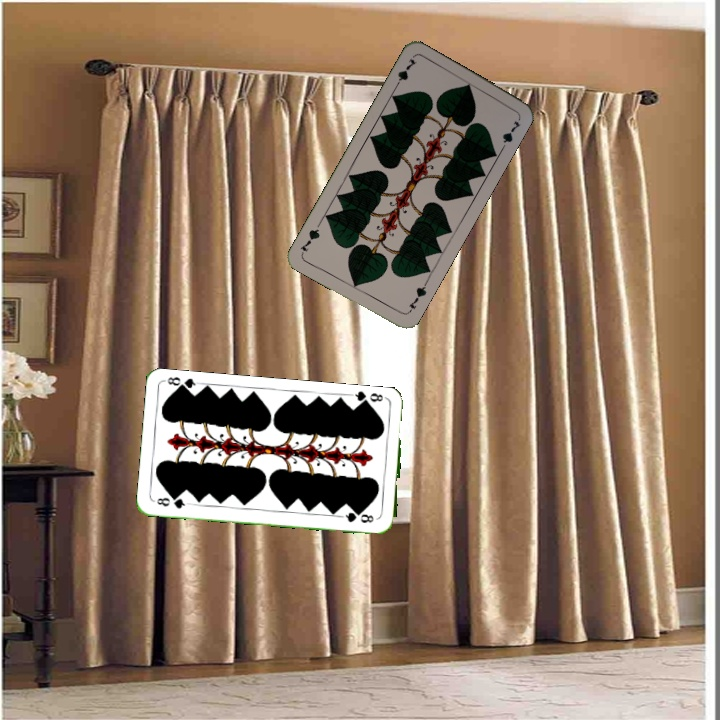G7: (390, 54, 419, 91), (404, 279, 430, 316)
G8: (349, 388, 389, 409), (153, 494, 191, 511)
